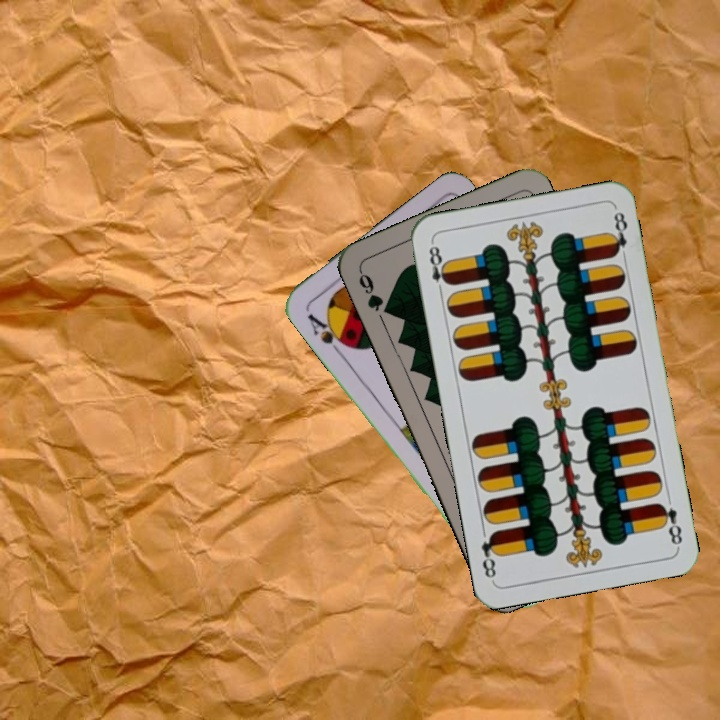E8: (424, 238, 453, 297), (654, 499, 685, 549)
G9: (355, 267, 395, 318)
SA: (303, 309, 352, 357)
